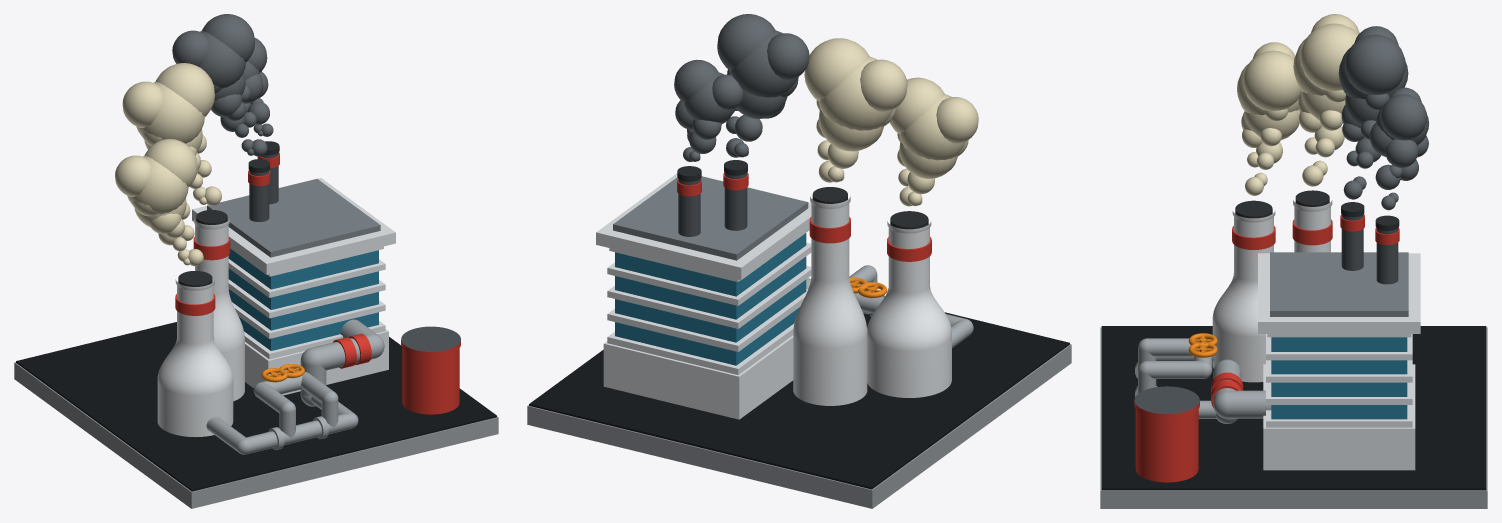
Rendered from gtg.glb.
The picture shows the model from 3 angles, left to right: view 1: azimuth 30°, elevation 25°; view 2: azimuth 150°, elevation 25°; view 3: azimuth 270°, elevation 25°; orthographic projection. The views are drawn at different scales.
Parts seen in each view (by area): view 1: ground_asphalt, ground_slab, smokestack_front_shell, building_roof, smokestack_back_shell, building_cornice, tank_body, building_base, smoke_back_puff_4_1, building_windows_3, building_windows_2, building_windows_1 (+19 smaller); view 2: ground_asphalt, ground_slab, smokestack_back_shell, smokestack_front_shell, building_base, building_roof, building_cornice, building_windows_3, building_windows_2, building_windows_1, building_windows_0, smoke_back_puff_4_2 (+23 smaller); view 3: ground_asphalt, ground_slab, building_roof, building_base, smokestack_front_shell, building_cornice, tank_body, smoke_roof_a_puff_4_2, smoke_front_puff_4_2, smoke_back_puff_4_2, building_windows_3, building_windows_0 (+27 smaller).
Part boxes in pixels (box(x1,y1,x2,y2)): ground_asphalt: box(16, 322, 496, 491); ground_slab: box(14, 362, 498, 508); smokestack_front_shell: box(157, 279, 233, 437); building_roof: box(207, 179, 380, 257); smokestack_back_shell: box(194, 218, 244, 401); building_cornice: box(192, 178, 395, 274); tank_body: box(402, 348, 459, 414); building_base: box(245, 329, 388, 395); smoke_back_puff_4_1: box(136, 81, 204, 143); building_windows_3: box(228, 249, 378, 289); building_windows_2: box(228, 268, 378, 309); building_windows_1: box(229, 289, 378, 330); ground_asphalt: box(529, 312, 1069, 489); ground_slab: box(527, 344, 1071, 508); smokestack_back_shell: box(793, 196, 867, 405); smokestack_front_shell: box(867, 221, 951, 397); building_base: box(603, 335, 793, 419); building_roof: box(613, 176, 808, 260); building_cornice: box(596, 173, 811, 280); building_windows_3: box(615, 233, 806, 296); building_windows_2: box(615, 256, 806, 319); building_windows_1: box(615, 279, 806, 342); building_windows_0: box(615, 307, 799, 365); smoke_back_puff_4_2: box(804, 38, 869, 101); ground_asphalt: box(1101, 326, 1486, 490); ground_slab: box(1100, 327, 1487, 508); building_roof: box(1270, 252, 1408, 316); building_base: box(1263, 364, 1415, 470); smokestack_front_shell: box(1212, 211, 1275, 382); building_cornice: box(1258, 253, 1420, 333); tank_body: box(1135, 410, 1198, 482); smoke_roof_a_puff_4_2: box(1345, 34, 1405, 94); smoke_front_puff_4_2: box(1243, 50, 1301, 110); smoke_back_puff_4_2: box(1300, 23, 1358, 90); building_windows_3: box(1271, 337, 1407, 351); building_windows_0: box(1271, 405, 1407, 419).
Size of the model in its own units: 2.9 by 3.26 by 2.9.
